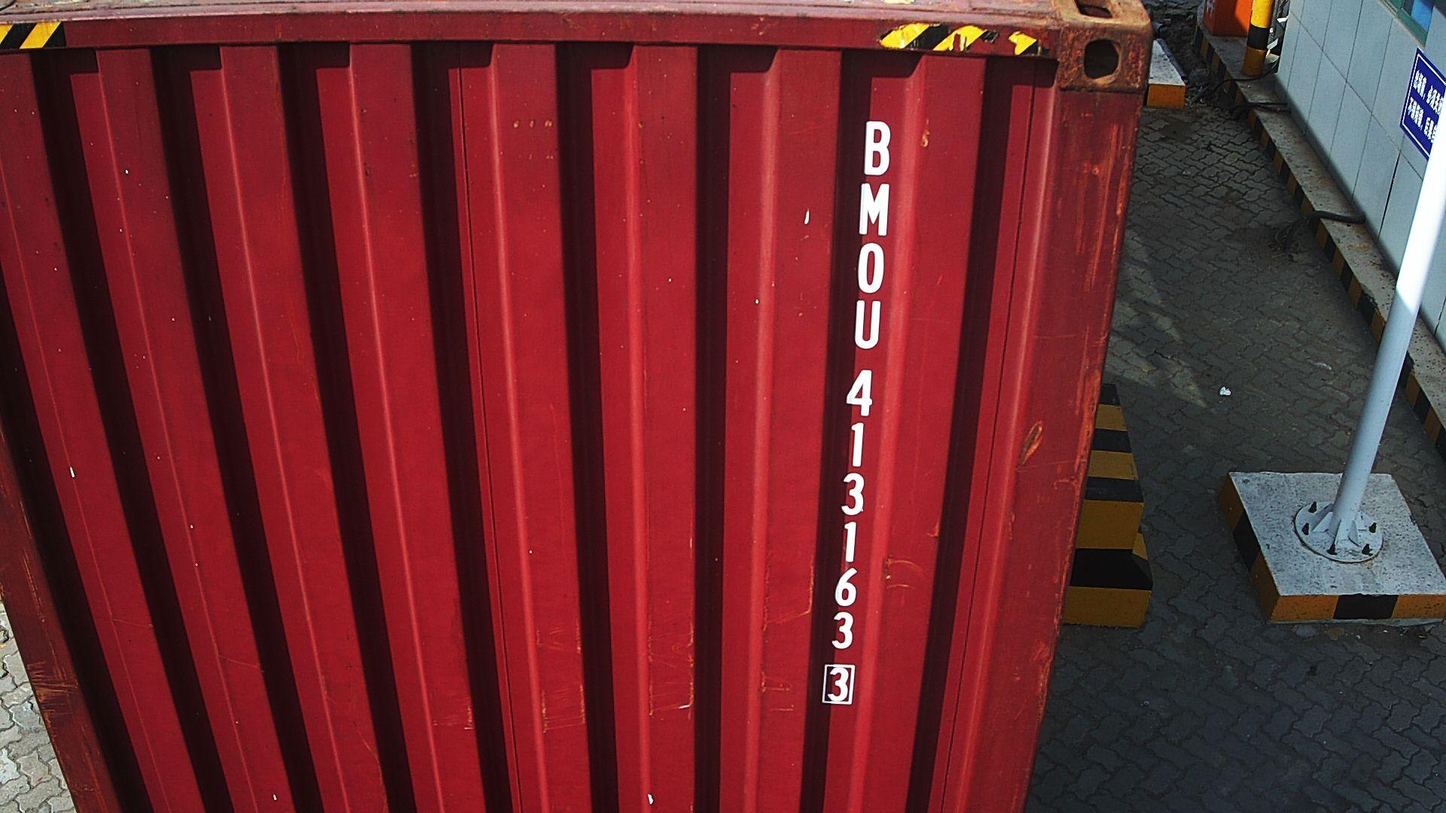container-numbers: (818, 113, 895, 710)
